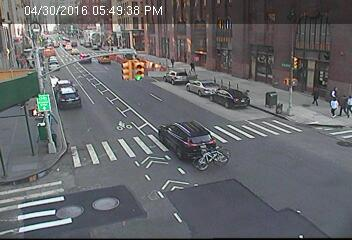neg: (303, 31, 327, 63), (136, 98, 158, 127), (200, 136, 222, 165), (299, 188, 321, 217), (32, 149, 52, 177), (265, 83, 285, 110), (239, 164, 258, 189), (261, 41, 280, 66), (75, 80, 93, 105), (104, 188, 122, 212), (148, 165, 166, 189), (19, 54, 37, 78), (286, 162, 303, 185), (61, 34, 78, 56), (122, 56, 138, 78), (76, 150, 92, 172), (311, 131, 327, 153), (36, 104, 52, 124), (176, 126, 189, 143)
pos: (327, 95, 343, 117), (309, 84, 324, 105), (330, 83, 341, 98), (189, 58, 199, 72), (167, 55, 176, 67)
